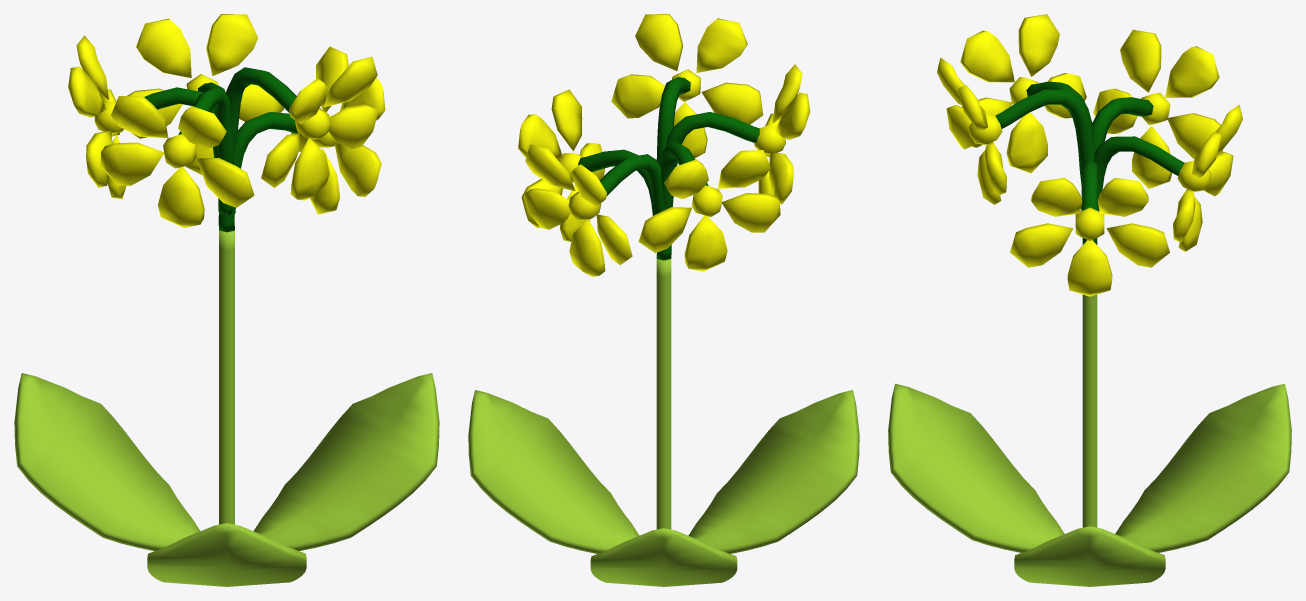
Rendered from primrose_0004.obj.
3 renders of one model, left to right at view 1: azimuth 30°, elevation 25°; view 2: azimuth 150°, elevation 25°; view 3: azimuth 270°, elevation 25°, orthographic. The views are drawn at different scales.
Visible parts, largest first — view 1: primrose_0004; view 2: primrose_0004; view 3: primrose_0004.
Boxes of the visible parts, x1=… form: primrose_0004: x1=14, y1=14, x2=439, y2=586; primrose_0004: x1=468, y1=14, x2=859, y2=586; primrose_0004: x1=888, y1=14, x2=1291, y2=586.
Bounding box in the file's own units: 2.22 × 3.23 × 2.34.
Materials: 1 (1 with a texture image).
